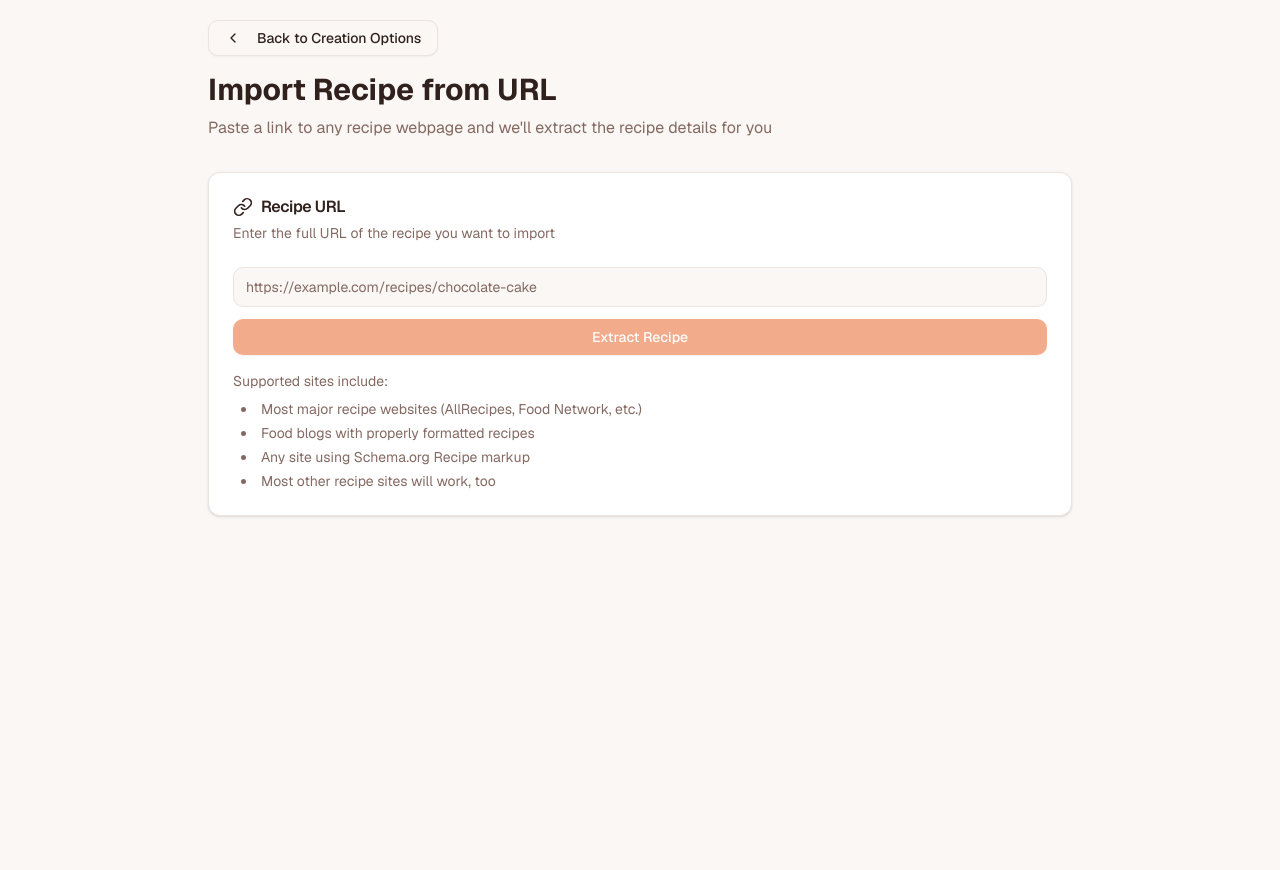
Test case: UrlRecipePage › disables save button when title is missing
// Extract recipe
In the field with placeholder "https://example.com/recipes/chocolate-cake": point(640, 287) [233,267,1047,307], type "https://example.com/recipe"
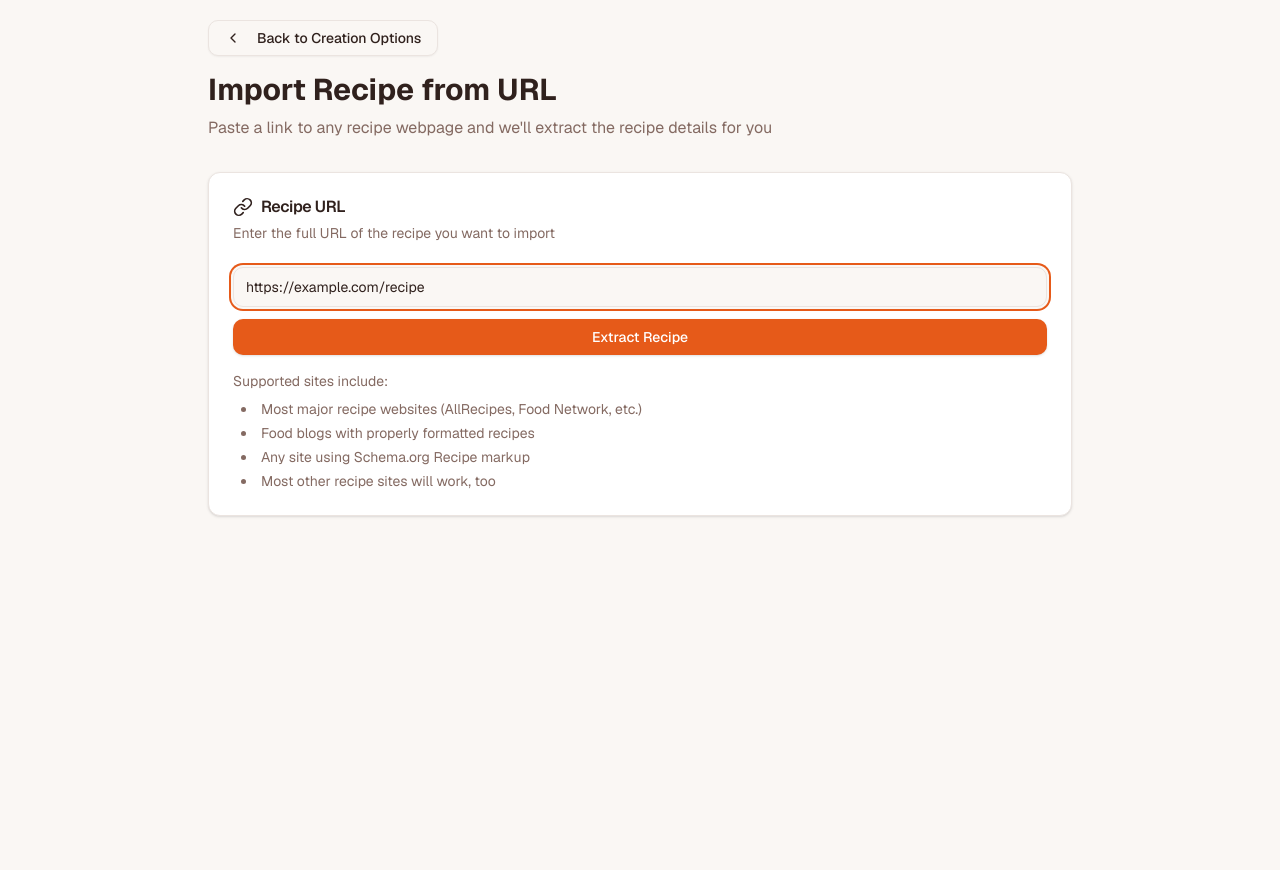
Click the button "Extract Recipe": point(640, 337) [233,319,1047,355]
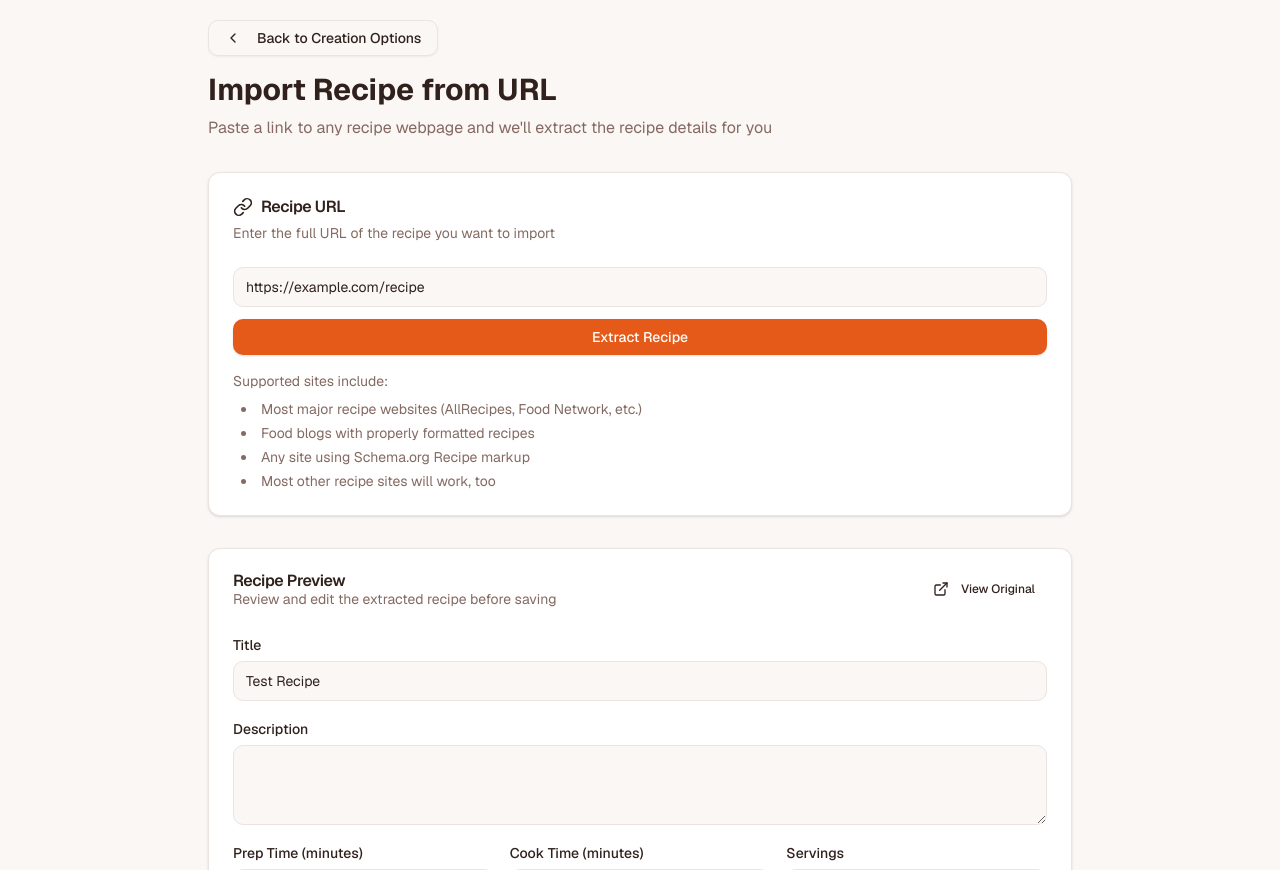
Expected: the text "Recipe Preview" is shown, [233,570,345,591]
// Clear title
Clear the field showing "Test Recipe": point(640, 681) [233,661,1047,701]
(page scrolled)
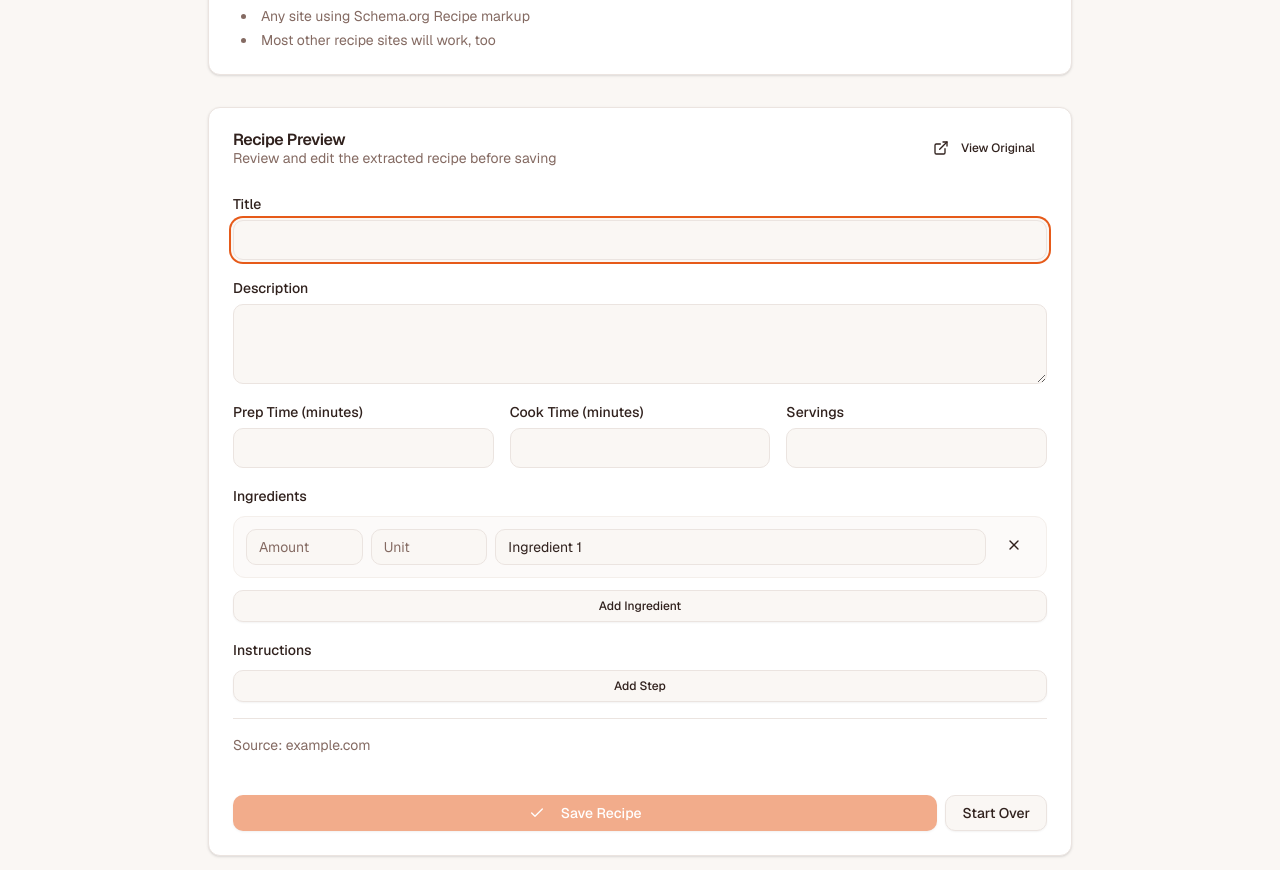
Expected: the button "Save Recipe" is disabled, [233,795,938,831]
